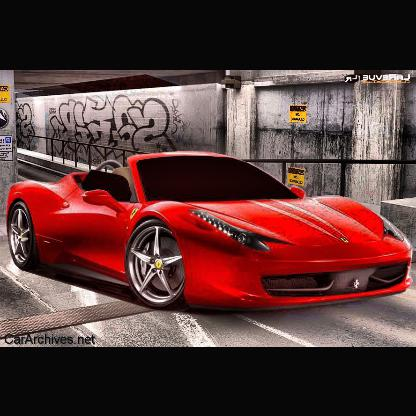Ferrari 458 Italia Convertible 2012: (1, 137, 415, 325)
